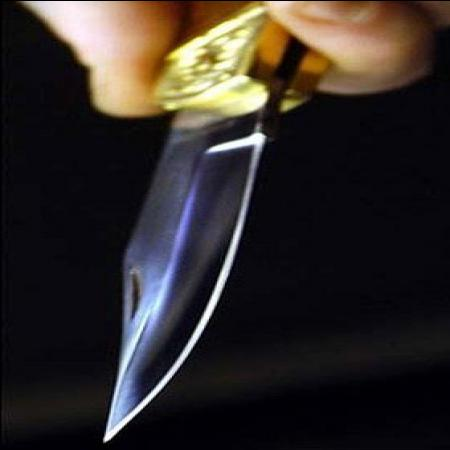long weapon: (78, 58, 367, 448)
